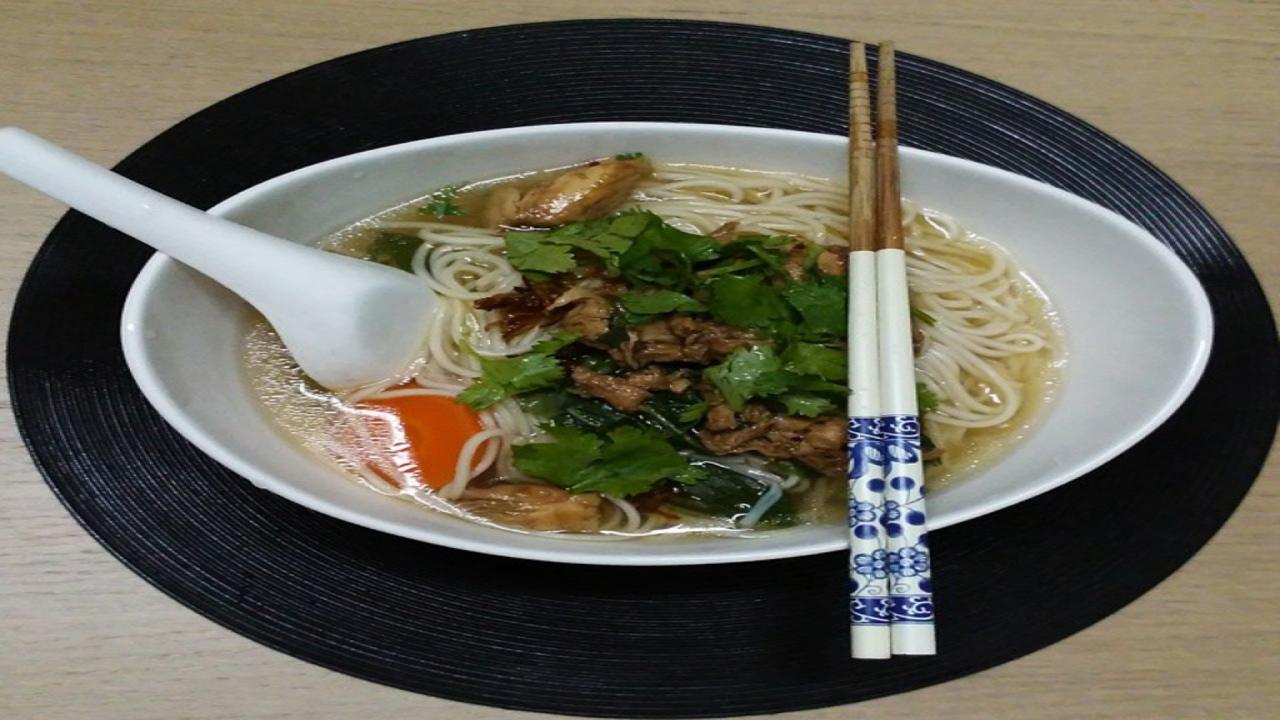chopstick: (845, 41, 938, 658)
